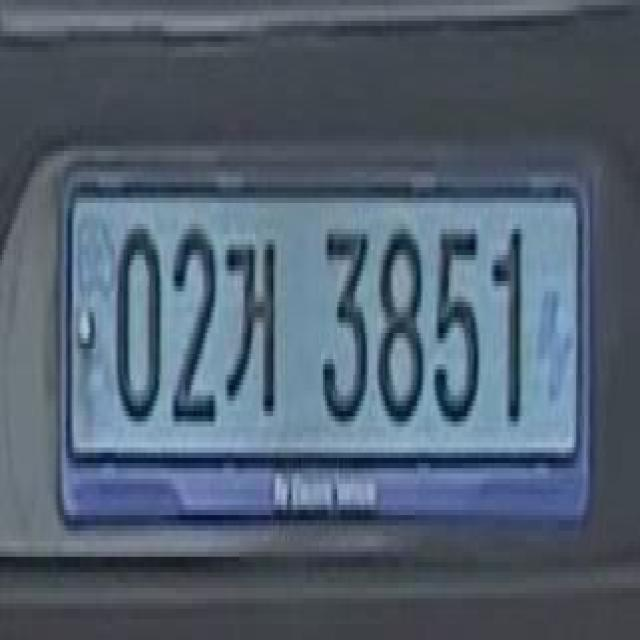EV_plate: (50, 154, 604, 561)
